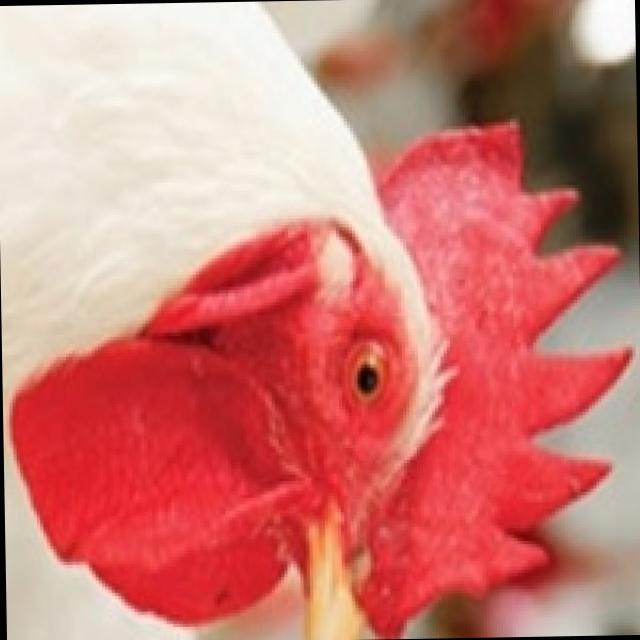Healthy: (0, 61, 639, 640)
